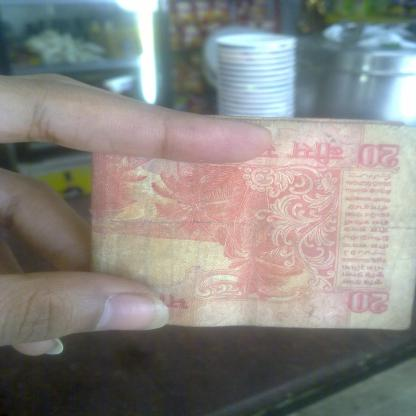Old20Back: (93, 125, 416, 332)
